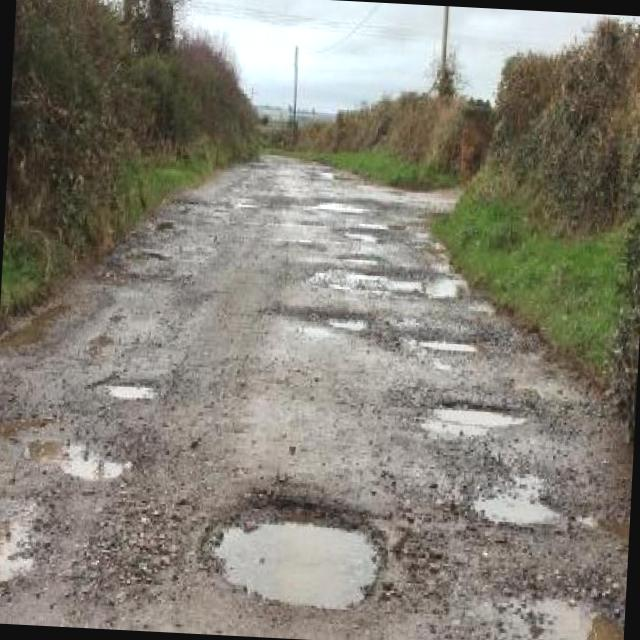pothole: (196, 489, 391, 614), (26, 426, 142, 482), (464, 471, 574, 527), (265, 298, 383, 334), (0, 501, 47, 590), (432, 396, 532, 426), (89, 370, 162, 399), (338, 223, 392, 243), (427, 272, 468, 298)
